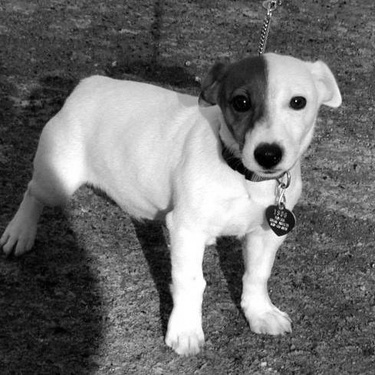dog: (7, 47, 351, 355)
